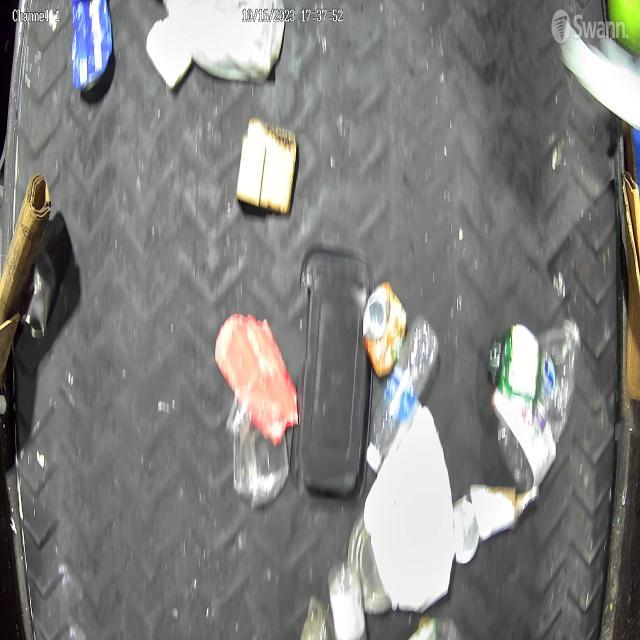can: (234, 116, 294, 212), (362, 279, 409, 372)
milk_jug: (150, 1, 286, 89)
plastic_bottle: (360, 327, 438, 472)
